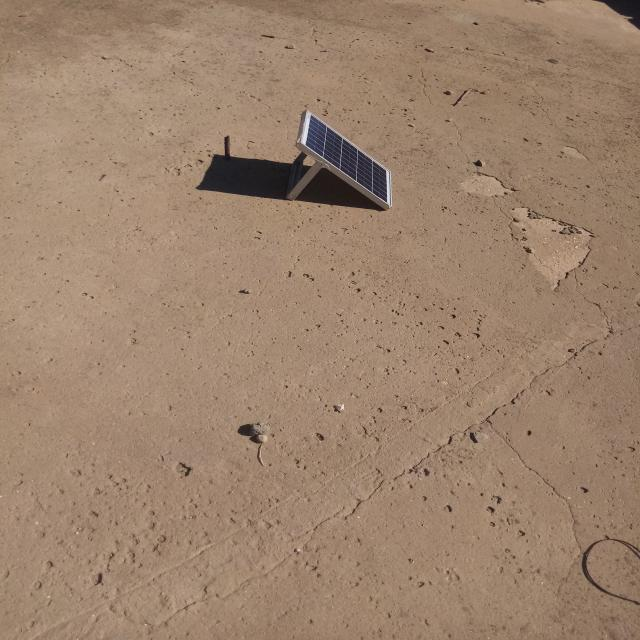no faulty: (301, 109, 391, 206)
